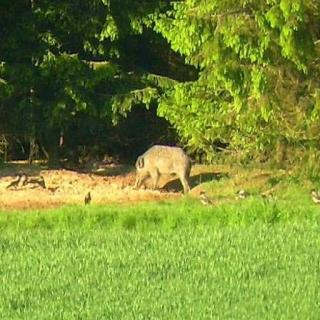Pig: (119, 138, 202, 202)
